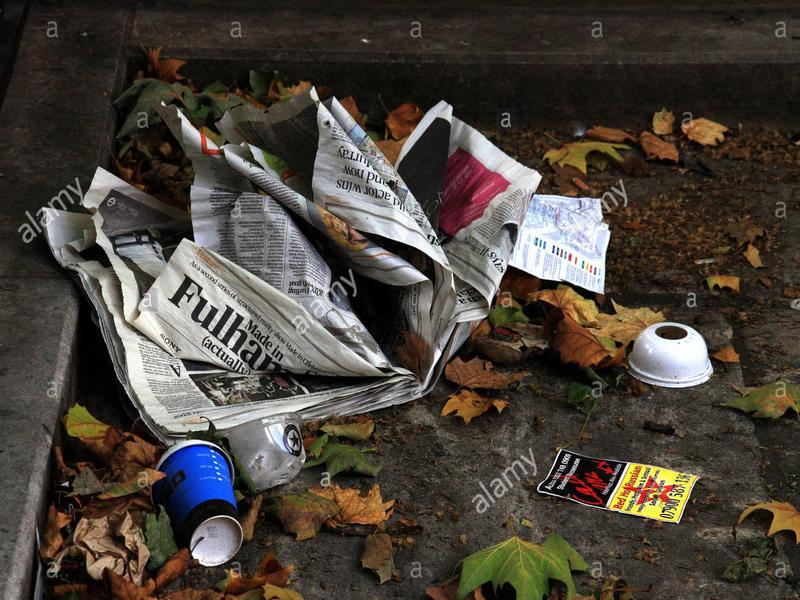cup: (154, 439, 247, 571)
leaf: (442, 534, 597, 600), (307, 477, 399, 533), (537, 128, 637, 173), (262, 488, 341, 544), (715, 374, 800, 426), (735, 489, 800, 553), (545, 314, 612, 372), (446, 355, 535, 395), (436, 390, 513, 426), (677, 105, 735, 150), (60, 399, 114, 438)
paper: (39, 78, 543, 440), (535, 435, 704, 532), (507, 175, 623, 302)
